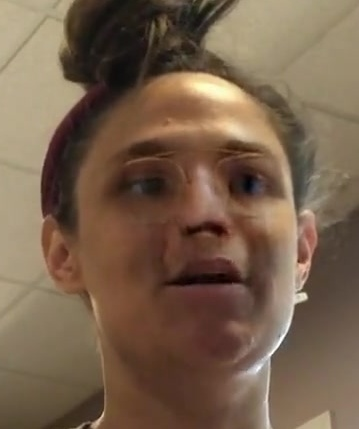n_f: (177, 159, 233, 241)
